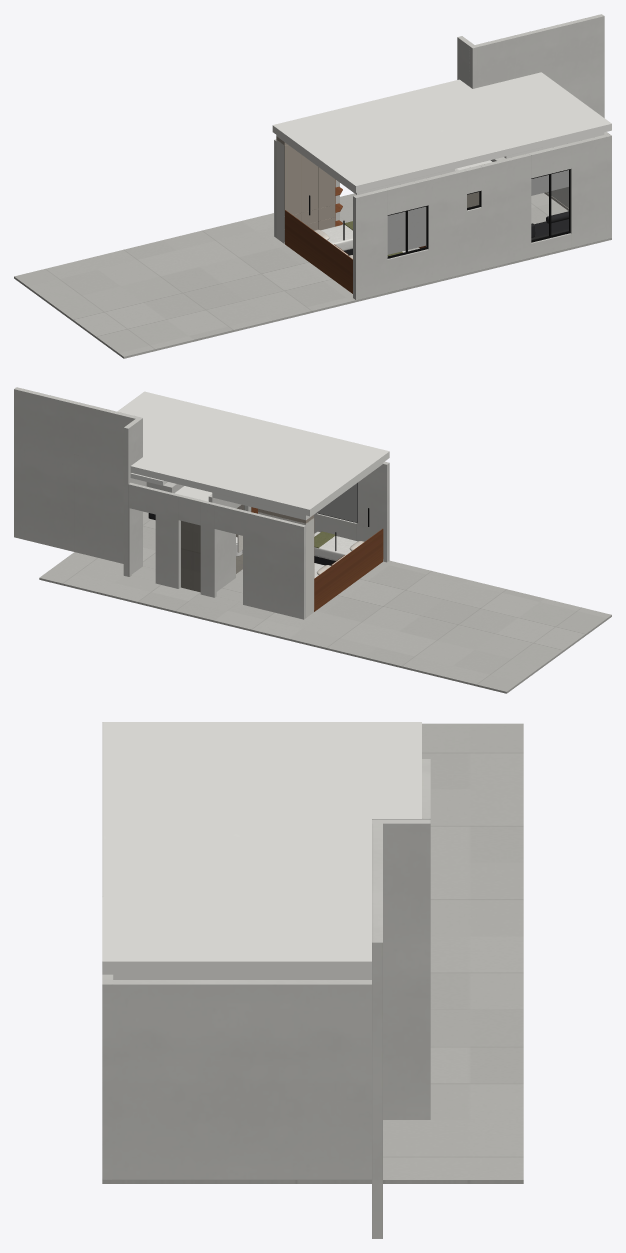
Rendered from casa_sul.glb.
3 views of the same model, one above another, from view 1: azimuth 30°, elevation 25°; view 2: azimuth 150°, elevation 25°; view 3: azimuth 270°, elevation 25° (orthographic). The views are drawn at different scales.
Visible parts, largest first — view 1: ZONA_sul; view 2: ZONA_sul; view 3: ZONA_sul.
Boxes of the visible parts, x1,y1,x2,y2 form: ZONA_sul: [14, 14, 611, 358]; ZONA_sul: [14, 387, 611, 693]; ZONA_sul: [102, 722, 523, 1238].
Size of the model in its own units: 16.82 by 4.57 by 5.81.
1 material, 1 textured.
